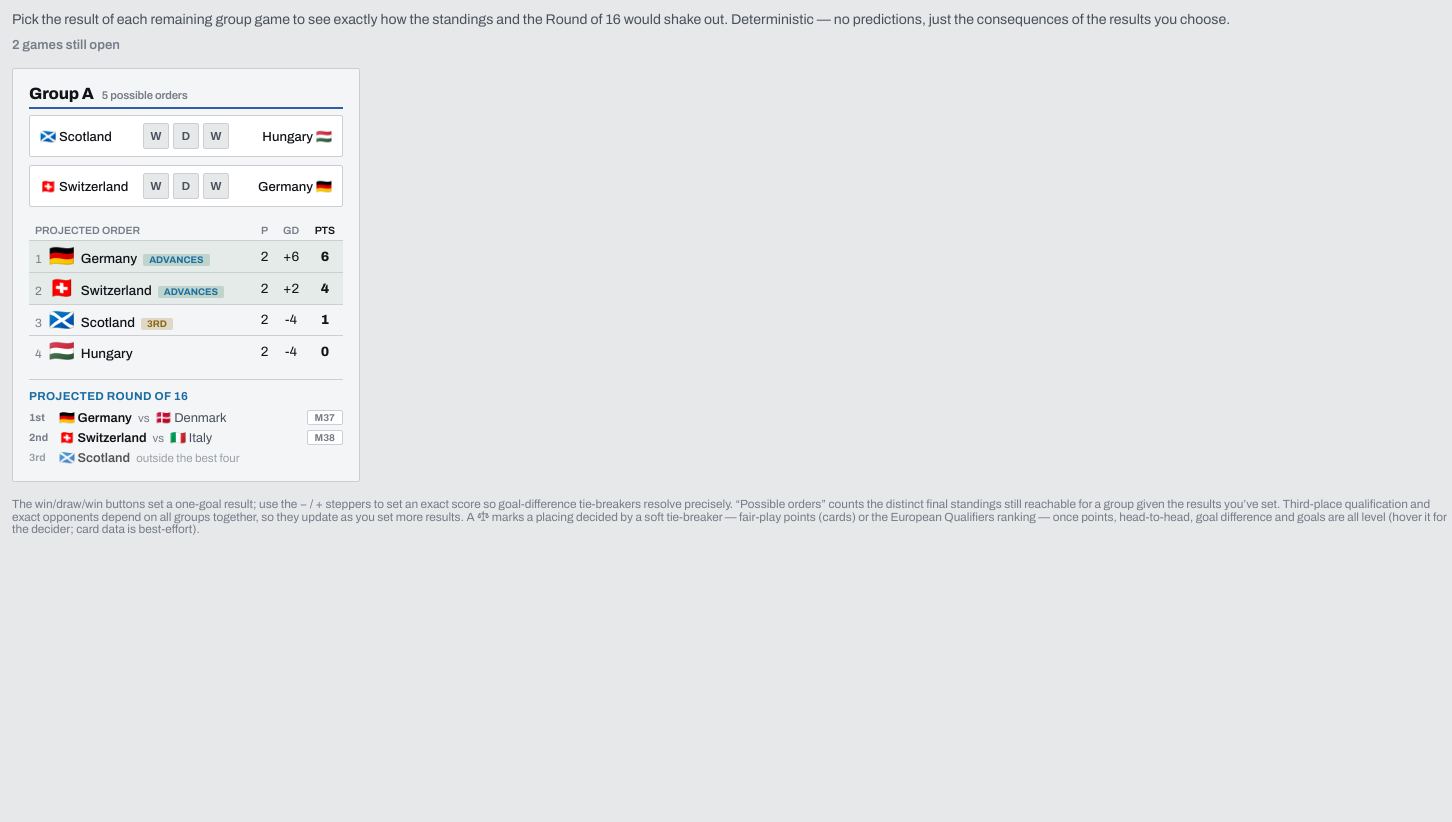
Test: ScenariosView › exposes goal steppers once a result is set, and they adjust the score
The image size is (1452, 822).
// Set the first fixture to a home win, which reveals the score steppers.
Click the 1st button titled "win": coordinates (156, 136) [143,123,169,149]
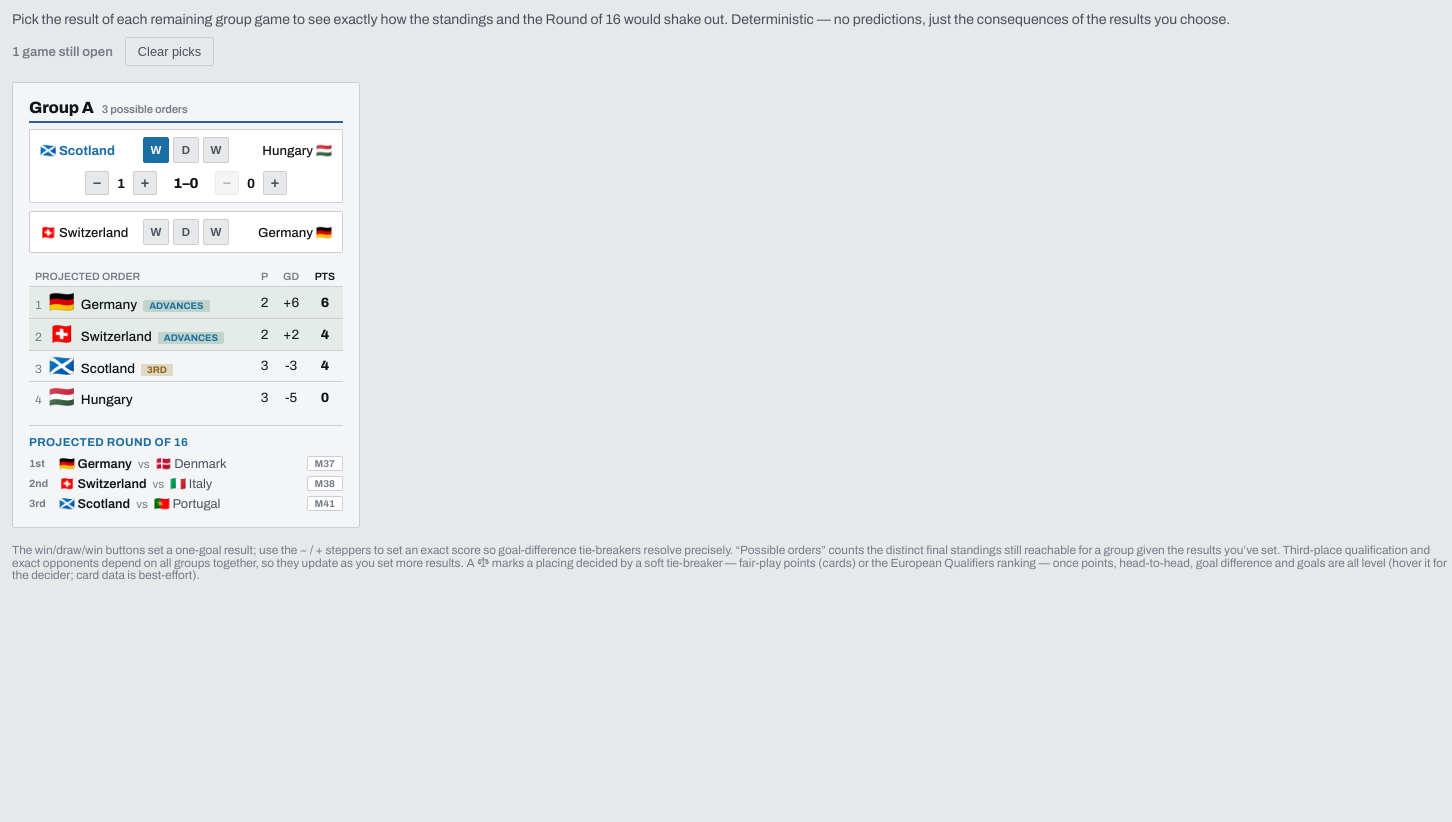
Check: the text "1–0" is shown, box [173,175,199,191]
// Bump the home side to 2 goals.
Click the button named "goals plus": coordinates (145, 183) [133,171,157,195]
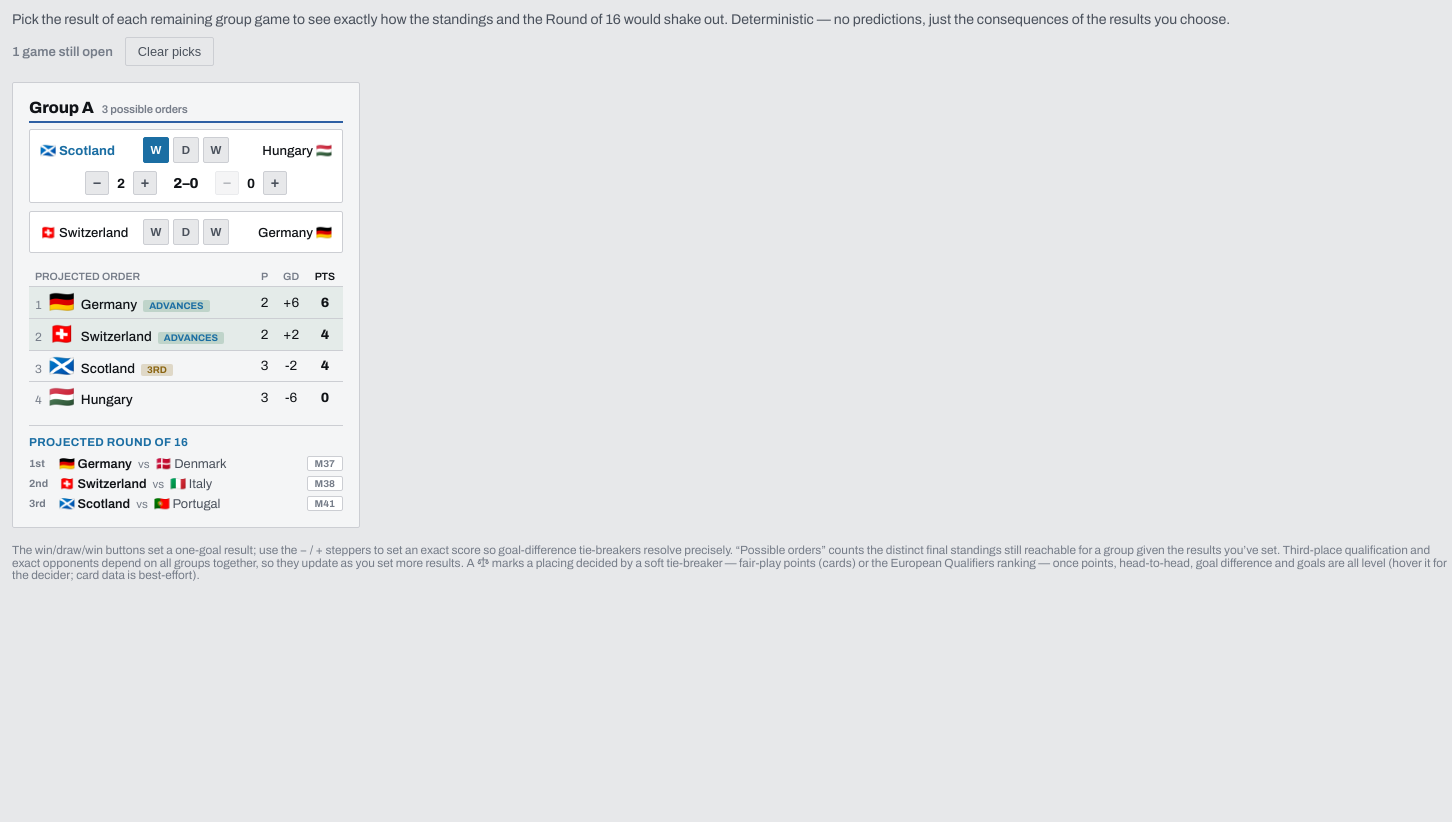
Check: the text "2–0" is shown, box [173,175,199,191]
